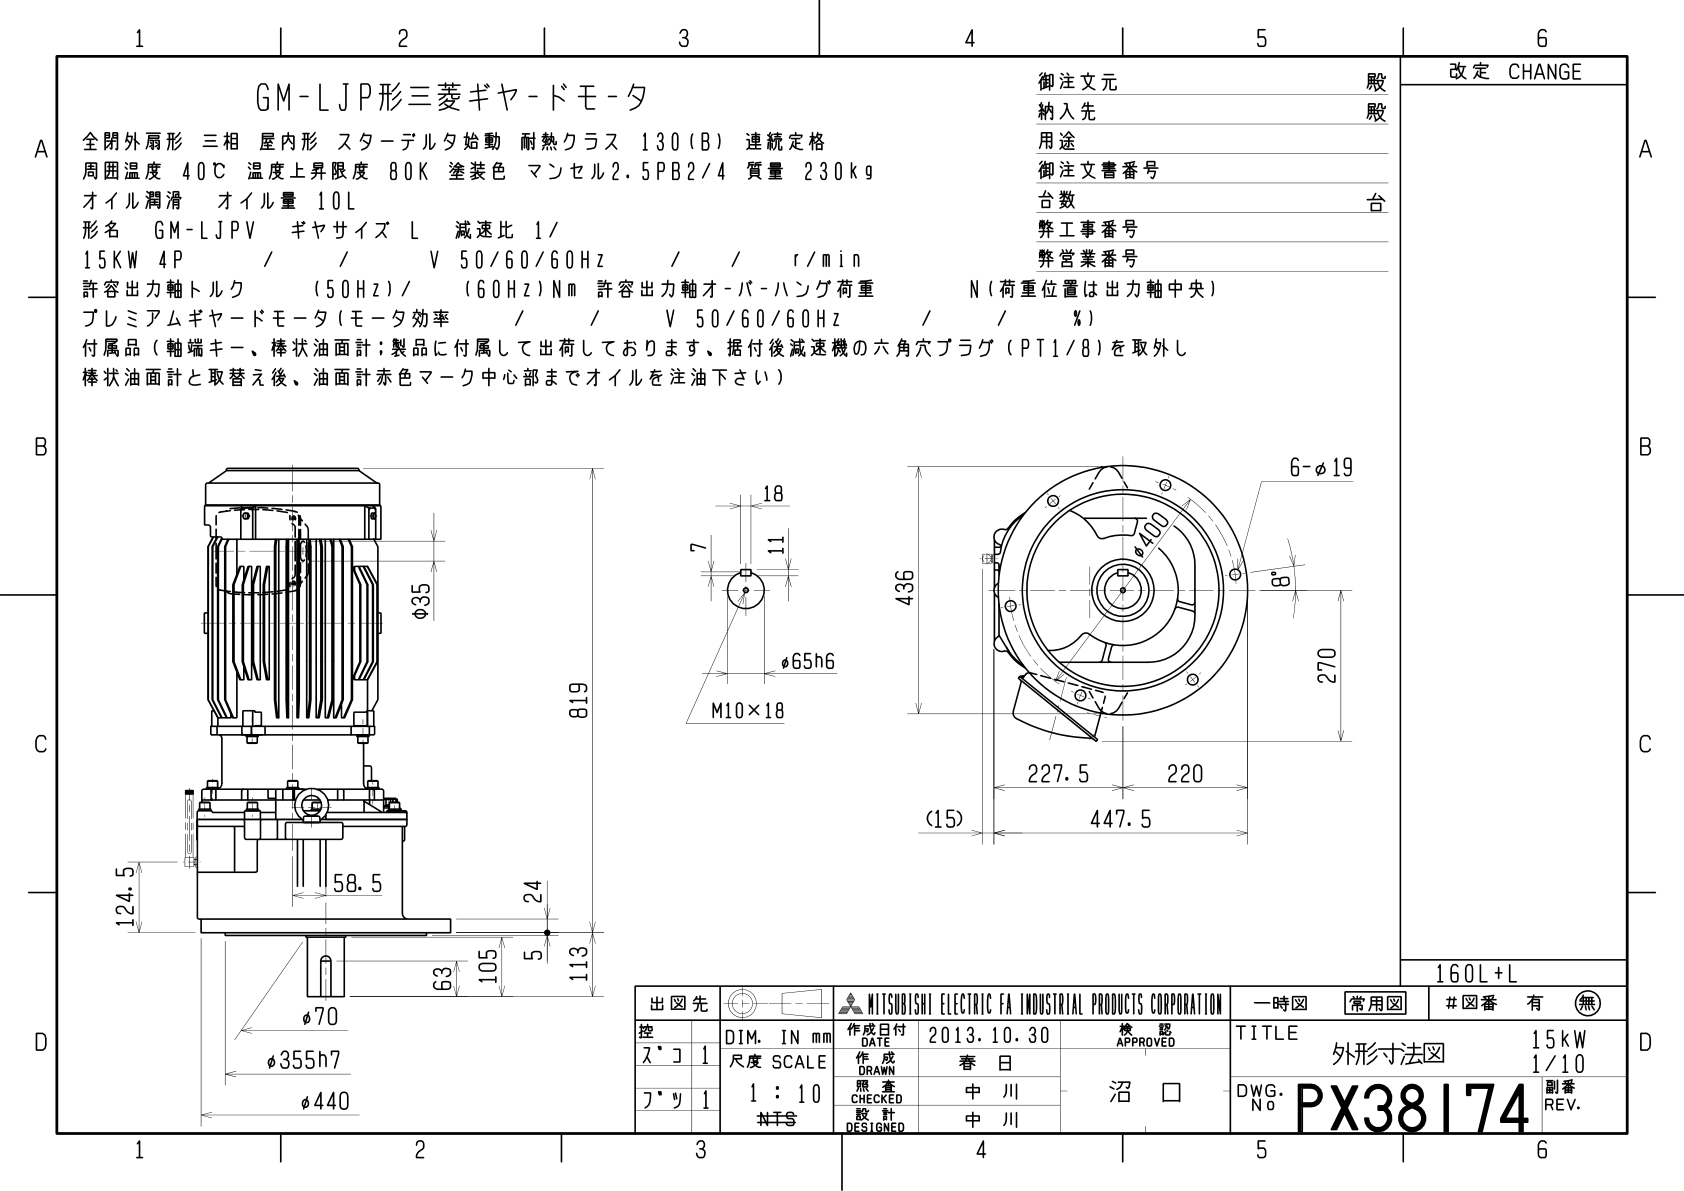GM_LJP_屋内_三相_立: (81, 410, 1385, 986)
